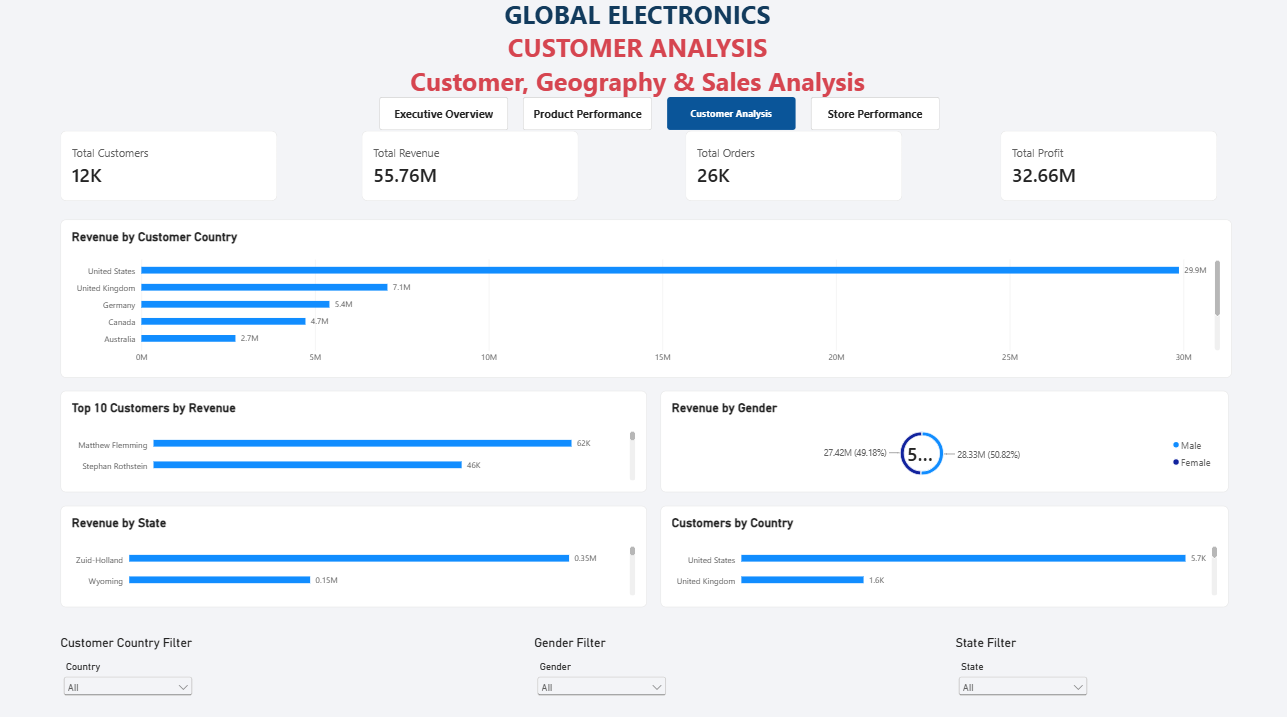

Layout of this report page (visuals, bound fields, positions):
{"tool":"powerbi","page":{"name":"Customer Analysis","canvas":[1920,1080],"ordinal":2},"visuals":[{"type":"textbox","box":[10.3,0,1887.5,152.3],"z":0},{"type":"cardVisual","fields":{"Data":["_All_Measures.Total Customers"]},"box":[100.9,197.6,321.1,105],"z":1000},{"type":"cardVisual","fields":{"Data":["_All_Measures.Total Revenue"]},"box":[545.5,197.6,321.1,105],"z":2000},{"type":"cardVisual","fields":{"Data":["_All_Measures.Total Orders"]},"box":[1025,197.6,321.1,105],"z":3000},{"type":"cardVisual","fields":{"Data":["_All_Measures.Total Profit"]},"box":[1492.3,197.6,321.1,105],"z":4000},{"type":"clusteredBarChart","title":"Revenue by Customer Country","fields":{"Category":["global_electronics customers.Country"],"Y":["_All_Measures.Total Revenue"]},"box":[100.9,329.3,1735.2,234.6],"z":5000},{"type":"clusteredBarChart","title":"Top 10 Customers by Revenue","fields":{"Category":["global_electronics customers.Name"],"Y":["_All_Measures.Total Revenue"]},"box":[100.9,582.5,868.6,150.3],"z":6000},{"type":"donutChart","title":"Revenue by Gender","fields":{"Category":["global_electronics customers.Gender"],"Y":["_All_Measures.Total Revenue"]},"box":[988,582.5,841.9,150.3],"z":7000},{"type":"clusteredBarChart","title":"Customers by Country","fields":{"Category":["global_electronics customers.Country"],"Y":["_All_Measures.Total Customers"]},"box":[988,753.3,841.9,150.3],"z":8000},{"type":"clusteredBarChart","title":"Revenue by State","fields":{"Category":["global_electronics customers.State"],"Y":["_All_Measures.Total Revenue"]},"box":[100.9,753.3,868.6,150.3],"z":9000},{"type":"slicer","title":"Customer Country Filter","fields":{"Values":["global_electronics customers.Country"]},"box":[100.9,946.8,200,100],"z":10000},{"type":"slicer","title":"Gender Filter","fields":{"Values":["global_electronics customers.Gender"]},"box":[802.7,946.8,200,100],"z":11000},{"type":"slicer","title":"State Filter","fields":{"Values":["global_electronics customers.State"]},"box":[1426.4,946.8,200,100],"z":12000},{"type":"pageNavigator","box":[572.2,148.2,832.3,49.9],"z":17000}]}

Visuals, with their boxes in screenshot pixels (x1, y1, x2, y2), scaled from the page's 1920x1080 canvas onto the 1287x717 screenshot:
textbox: select_region(7, 0, 1272, 101)
cardVisual - _All_Measures.Total Customers: select_region(68, 131, 283, 201)
cardVisual - _All_Measures.Total Revenue: select_region(366, 131, 581, 201)
cardVisual - _All_Measures.Total Orders: select_region(687, 131, 902, 201)
cardVisual - _All_Measures.Total Profit: select_region(1000, 131, 1216, 201)
"Revenue by Customer Country" clusteredBarChart: select_region(68, 219, 1231, 374)
"Top 10 Customers by Revenue" clusteredBarChart: select_region(68, 387, 650, 486)
"Revenue by Gender" donutChart: select_region(662, 387, 1227, 486)
"Customers by Country" clusteredBarChart: select_region(662, 500, 1227, 600)
"Revenue by State" clusteredBarChart: select_region(68, 500, 650, 600)
"Customer Country Filter" slicer: select_region(68, 629, 202, 695)
"Gender Filter" slicer: select_region(538, 629, 672, 695)
"State Filter" slicer: select_region(956, 629, 1090, 695)
pageNavigator: select_region(384, 98, 941, 132)
